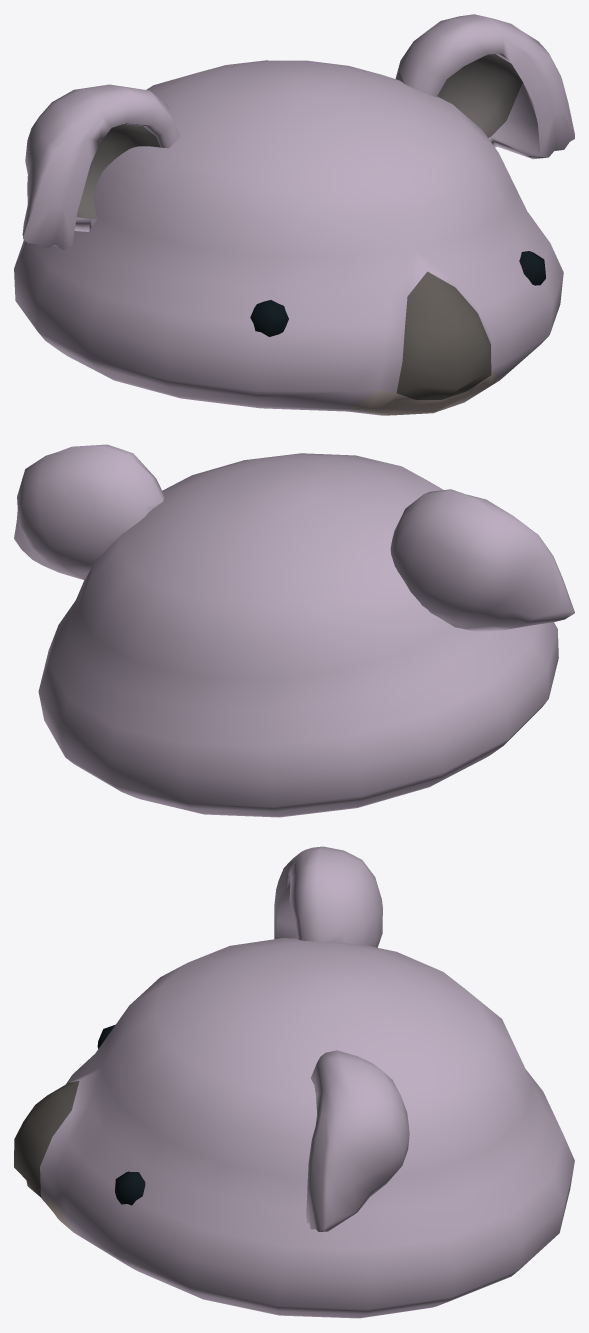
File: Hat_49_01.fbx
3 renders of one model, top to bottom at view 1: azimuth 30°, elevation 25°; view 2: azimuth 150°, elevation 25°; view 3: azimuth 270°, elevation 25°, orthographic. The views are drawn at different scales.
Parts seen in each view (by area): view 1: Hat_49_01; view 2: Hat_49_01; view 3: Hat_49_01.
Boxes of the visible parts, x1,y1,x2,y2 form: Hat_49_01: [14, 14, 574, 415]; Hat_49_01: [14, 444, 574, 817]; Hat_49_01: [14, 846, 574, 1318].
Bounding box in the file's own units: 50.92 × 25.61 × 44.96.
